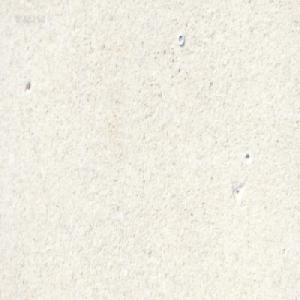Washer: (176, 32, 184, 46)
